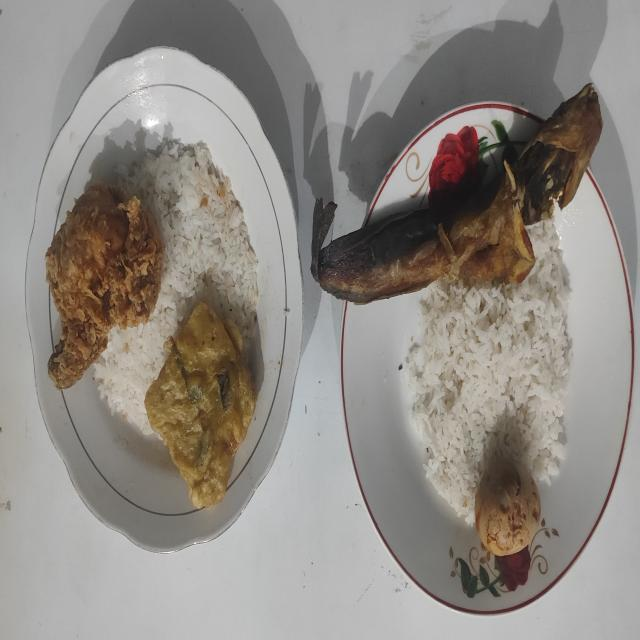nasi_putih: (404, 219, 572, 522), (94, 141, 258, 434)
